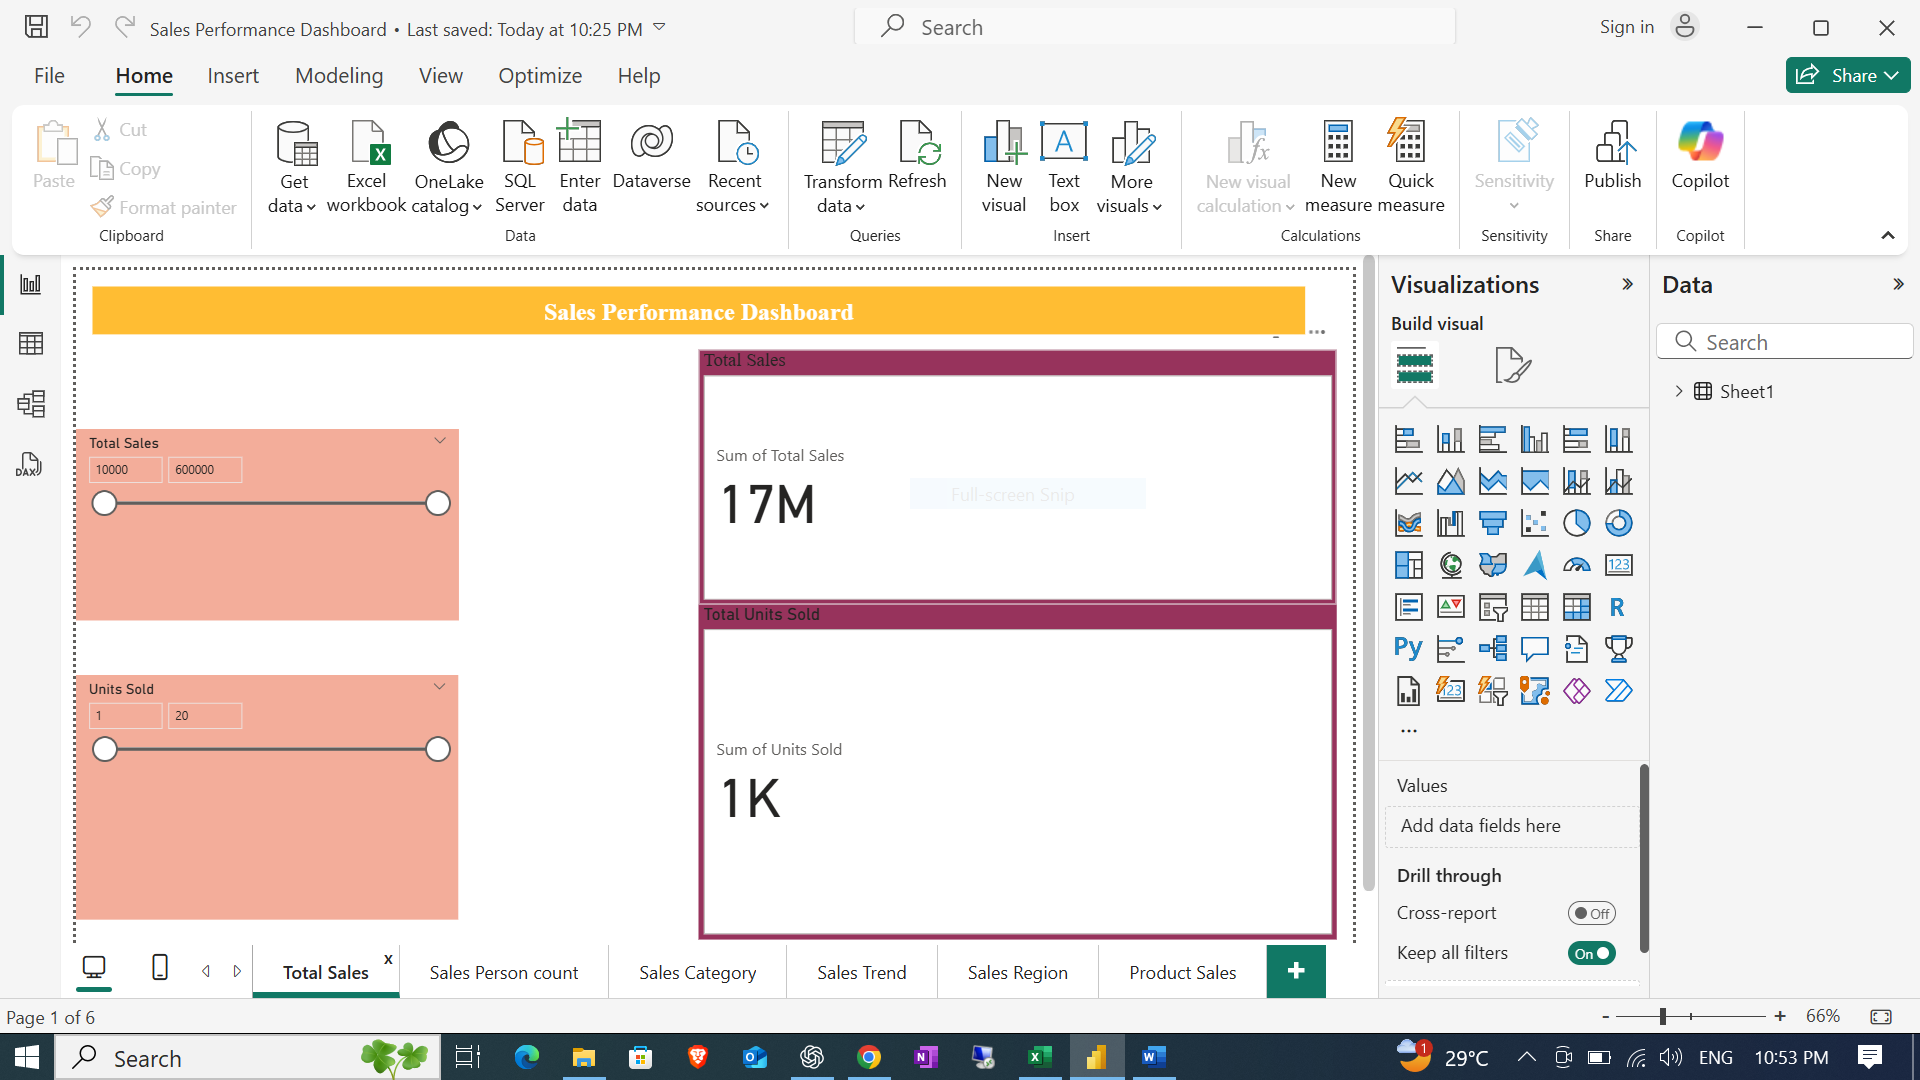

This screenshot's page, from the dashboard's own definition file:
{"tool":"powerbi","page":{"name":"Total Sales","canvas":[1280,720],"ordinal":0},"visuals":[{"type":"cardVisual","title":"Total Sales ","fields":{"Data":["Sum(Sheet1.Total Sales)"]},"box":[624,80,640,256],"z":0},{"type":"cardVisual","title":"Total Units Sold","fields":{"Data":["Sum(Sheet1.Units Sold)"]},"box":[624,336,640,336],"z":1000},{"type":"slicer","fields":{"Values":["Sheet1.Total Sales"]},"box":[0,160,384,192],"z":2000},{"type":"slicer","fields":{"Values":["Sheet1.Units Sold"]},"box":[0,406.1,383.5,245.2],"z":3000},{"type":"textbox","box":[16,16,1216,48],"z":4000}]}

Visuals, with their boxes on the page's 1280x720 design canvas (x1, y1, x2, y2). These are canvas units, not pixel positions in the 1920x1080 screenshot, which may show the page scaled, cropped or inside an application window:
"Total Sales " cardVisual: [624,80,1264,336]
"Total Units Sold" cardVisual: [624,336,1264,672]
slicer - Sheet1.Total Sales: [0,160,384,352]
slicer - Sheet1.Units Sold: [0,406,384,651]
textbox: [16,16,1232,64]
